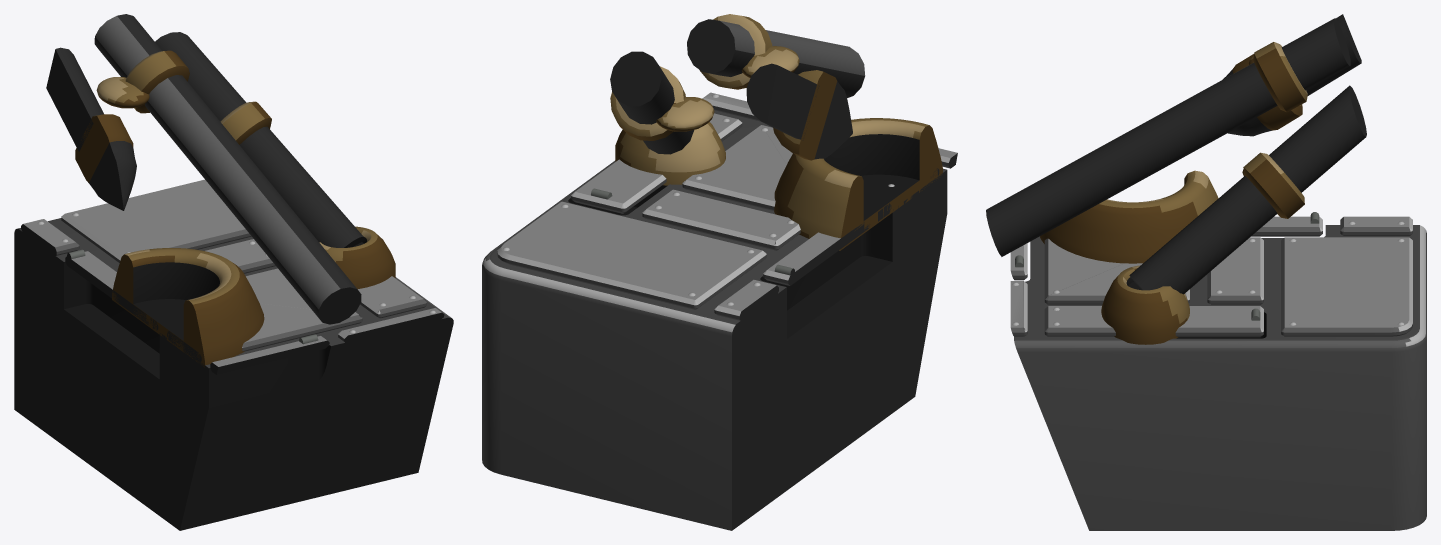
The model's file is asteroid_rig_tr.glb.
3 views of the same model, side by side, from view 1: azimuth 30°, elevation 25°; view 2: azimuth 150°, elevation 25°; view 3: azimuth 270°, elevation 25° (orthographic). The views are drawn at different scales.
Parts seen in each view (by area): view 1: asteroid_rig_tr; view 2: asteroid_rig_tr; view 3: asteroid_rig_tr.
Boxes of the visible parts, x1,y1,x2,y2 form: asteroid_rig_tr: (14,14,453,530); asteroid_rig_tr: (482,14,957,530); asteroid_rig_tr: (986,14,1426,530).
Bounding box in the file's own units: 19 × 31.48 × 29.84.
